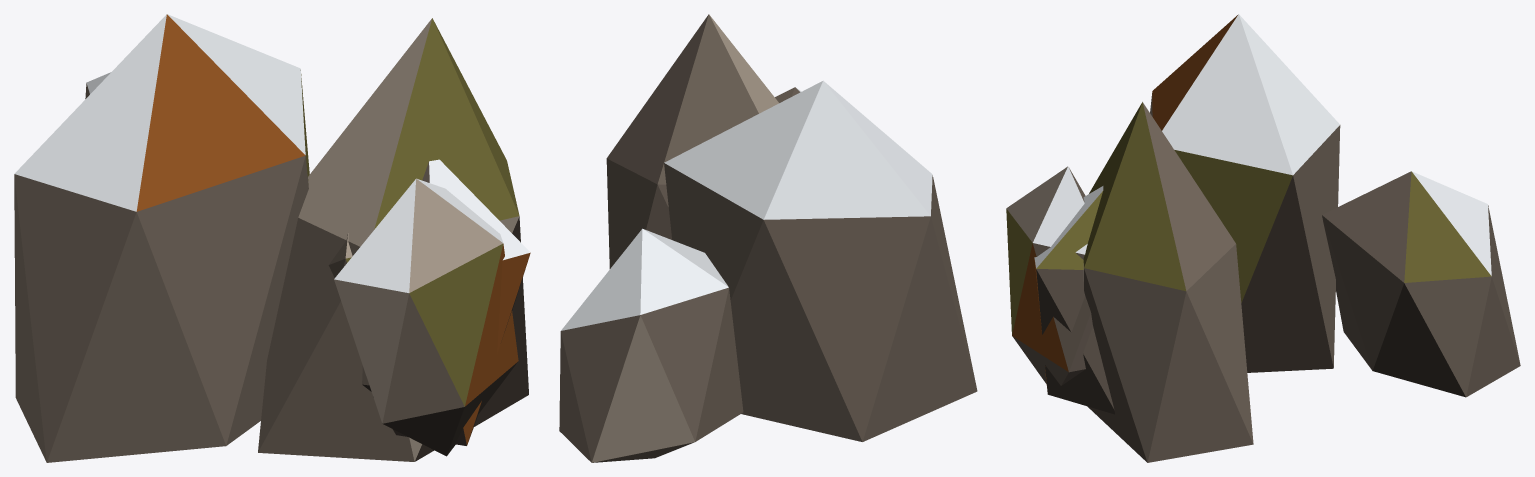
File: rs_crag_c.glb
3 views of the same model, side by side, from view 1: azimuth 30°, elevation 25°; view 2: azimuth 150°, elevation 25°; view 3: azimuth 270°, elevation 25° (orthographic). The views are drawn at different scales.
Visible parts, largest first — view 1: rs_crag_c.001; view 2: rs_crag_c.001; view 3: rs_crag_c.001.
Part boxes in pixels (left/top/right/bottom): rs_crag_c.001: left=14, top=14, right=530, bottom=462; rs_crag_c.001: left=559, top=14, right=977, bottom=462; rs_crag_c.001: left=1006, top=14, right=1520, bottom=462.
Bounding box in the file's own units: 4.79 × 4.07 × 5.75.
